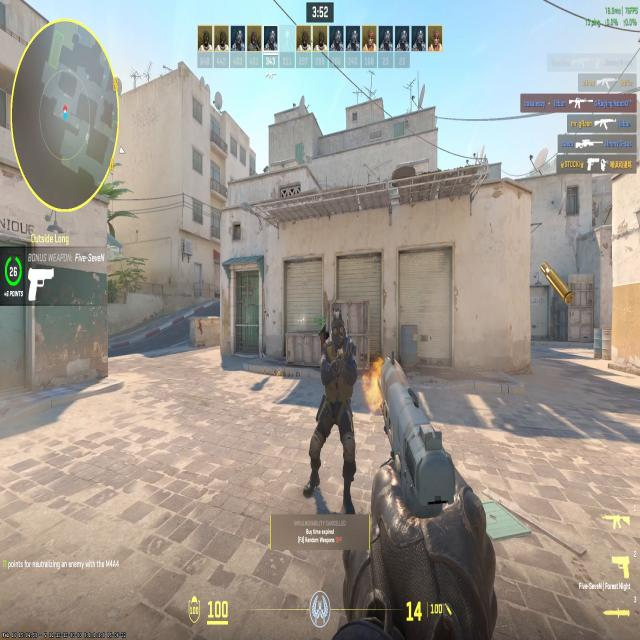player: (300, 299, 362, 516)
